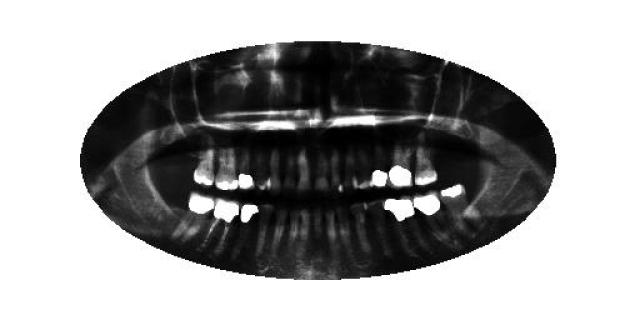Fillings: (382, 194, 432, 255), (438, 182, 482, 236), (173, 190, 215, 242), (412, 190, 452, 241), (231, 204, 260, 260), (388, 141, 413, 189), (215, 146, 239, 192), (372, 141, 388, 189), (238, 144, 254, 191)
Implant: (202, 198, 238, 252)
